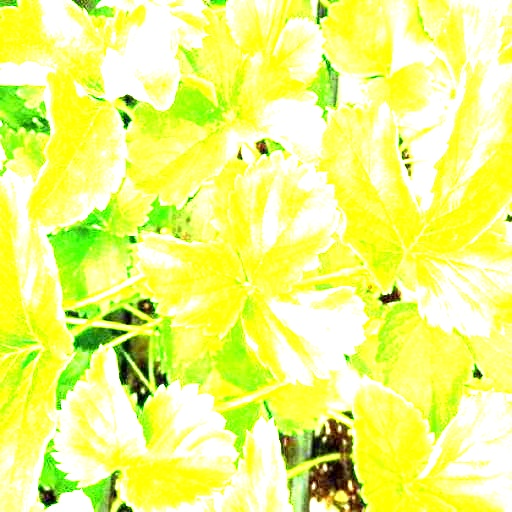Powdery Mildew Leaf: (315, 97, 424, 294), (412, 44, 511, 258), (21, 64, 129, 238), (225, 150, 341, 301), (240, 287, 369, 388), (133, 232, 249, 341), (412, 387, 511, 511), (0, 0, 107, 99), (100, 4, 181, 112)
